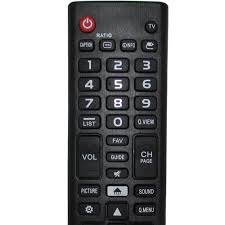remote control: (69, 2, 167, 225)
